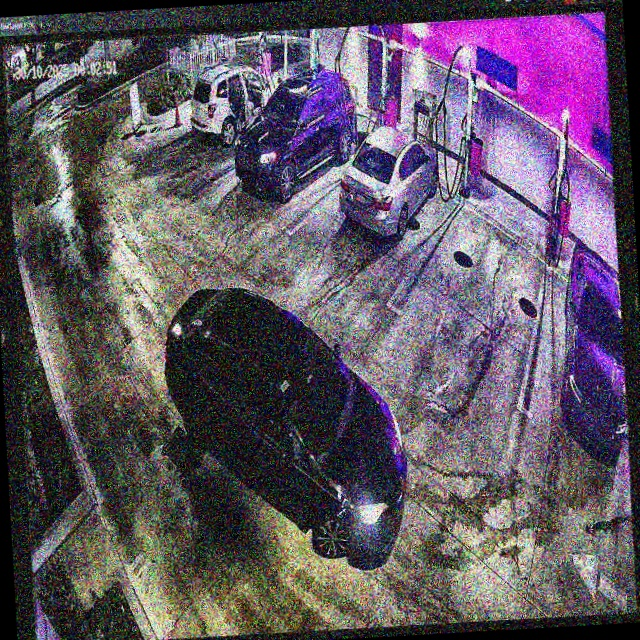Car: (158, 268, 411, 579), (235, 65, 359, 199), (336, 123, 441, 241), (186, 53, 283, 152)
